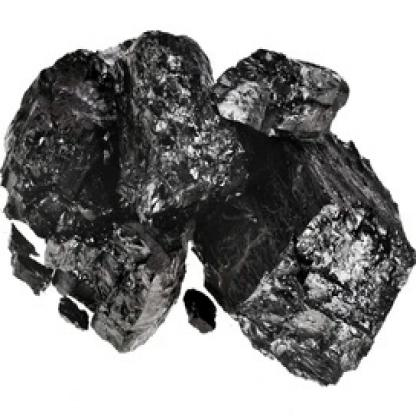Sedimentary_coal: (206, 131, 408, 392), (3, 44, 151, 274)
